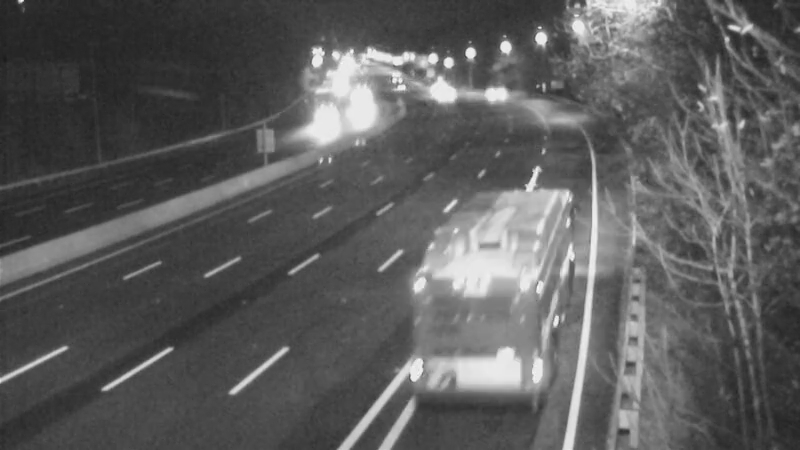vehicle: (428, 240, 508, 320), (371, 50, 421, 100), (415, 56, 465, 106), (408, 65, 458, 115), (473, 69, 523, 119), (420, 71, 470, 121), (295, 92, 345, 142), (333, 78, 383, 128)
